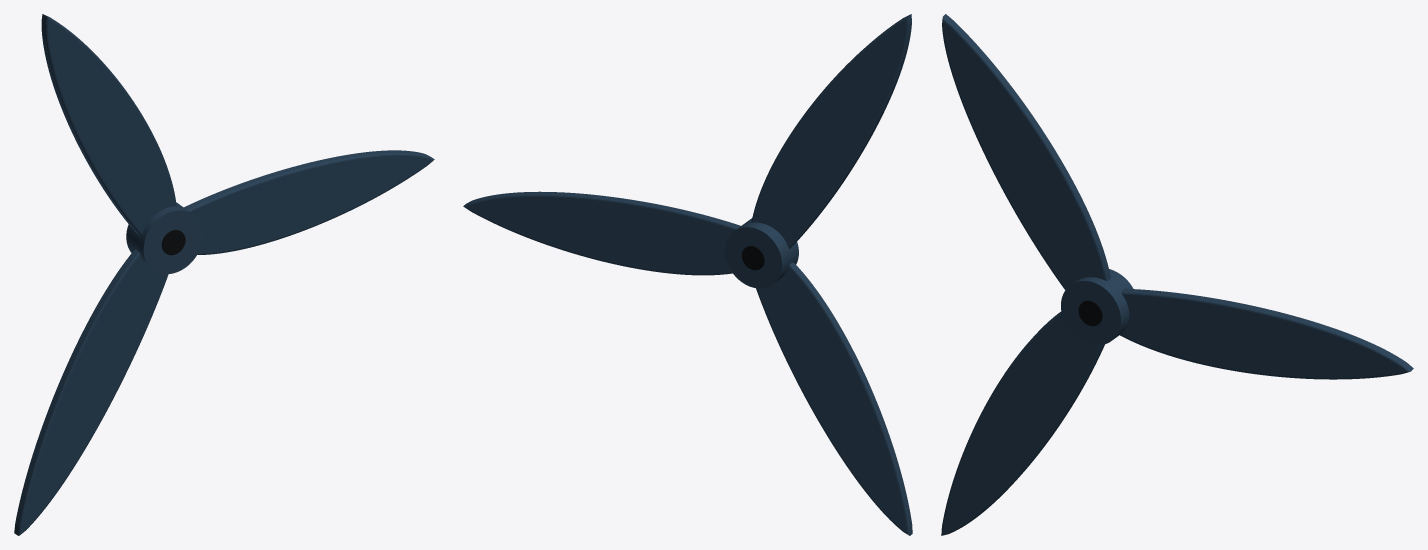
The model's file is hqprop-5x4.3x3.glb.
3 views of the same model, side by side, from view 1: azimuth 30°, elevation 25°; view 2: azimuth 150°, elevation 25°; view 3: azimuth 330°, elevation 25° (orthographic). The views are drawn at different scales.
Parts seen in each view (by area): view 1: pitch_blade_3, pitch_blade_2, pitch_blade_1, HQProp_HQ5X4_3X3V2S_spec_model; view 2: pitch_blade_3, pitch_blade_1, pitch_blade_2, HQProp_HQ5X4_3X3V2S_spec_model; view 3: pitch_blade_2, pitch_blade_1, pitch_blade_3, HQProp_HQ5X4_3X3V2S_spec_model.
Boxes of the visible parts, box(x1,y1,x2,y2) form: pitch_blade_3: box(14, 249, 168, 535); pitch_blade_2: box(41, 14, 176, 235); pitch_blade_1: box(184, 150, 434, 254); HQProp_HQ5X4_3X3V2S_spec_model: box(126, 202, 202, 274); pitch_blade_3: box(756, 262, 912, 535); pitch_blade_1: box(463, 191, 740, 275); pitch_blade_2: box(751, 14, 911, 248); HQProp_HQ5X4_3X3V2S_spec_model: box(725, 218, 798, 288); pitch_blade_2: box(942, 14, 1110, 289); pitch_blade_1: box(1120, 288, 1413, 379); pitch_blade_3: box(941, 311, 1104, 535); HQProp_HQ5X4_3X3V2S_spec_model: box(1061, 269, 1133, 345).
Bounding box in the file's own units: 0.095 × 0.1084 × 0.0156.
